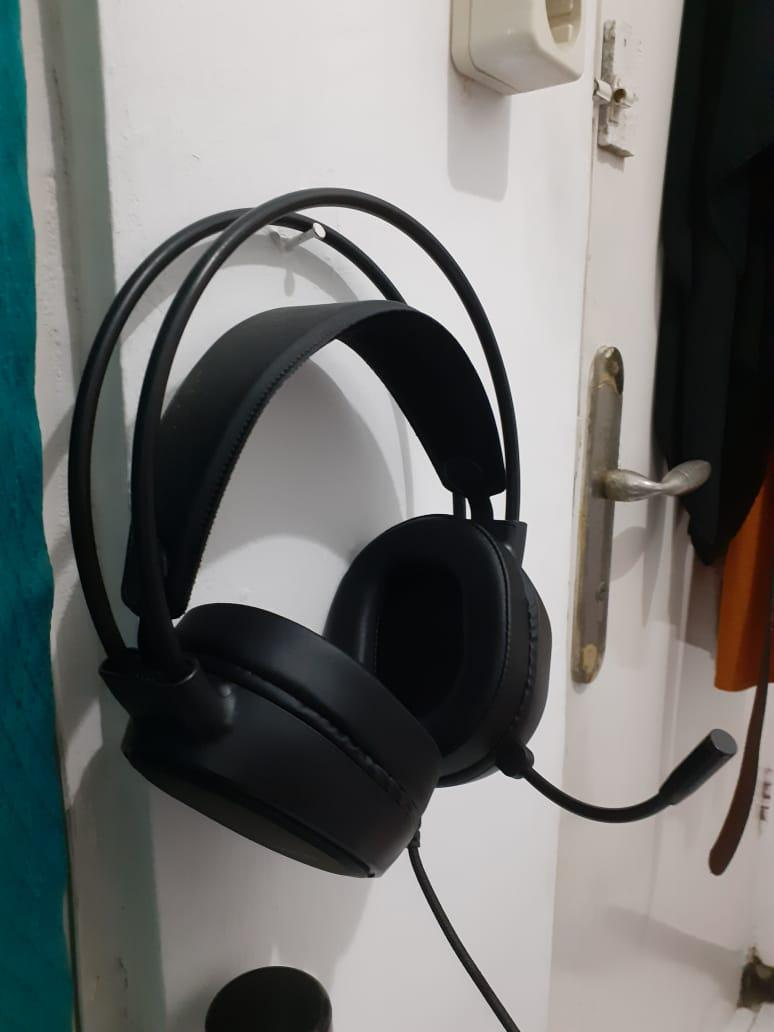Headset: (40, 184, 740, 897)
